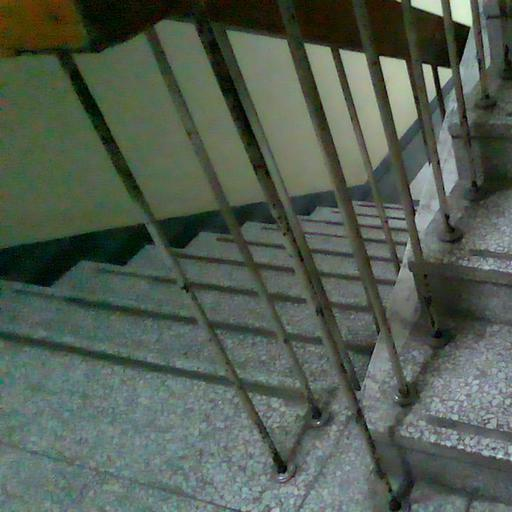stairs: (0, 222, 352, 510), (365, 77, 511, 504)
